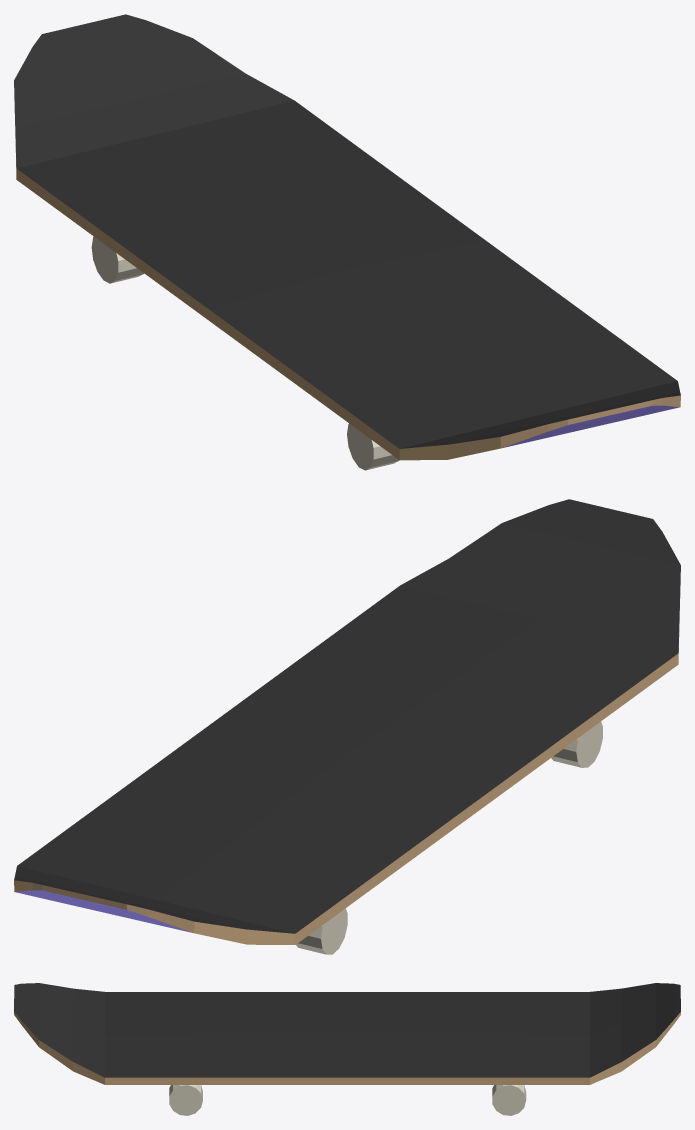
Rendered from Skateboard.fbx.
The picture shows the model from 3 angles, top to bottom: view 1: azimuth 30°, elevation 25°; view 2: azimuth 150°, elevation 25°; view 3: azimuth 270°, elevation 25°; orthographic projection. The views are drawn at different scales.
Visible parts, largest first — view 1: Skateboard; view 2: Skateboard; view 3: Skateboard.
Part boxes in pixels (x1,y1,x2,y2): Skateboard: [14, 14, 680, 470]; Skateboard: [14, 499, 680, 954]; Skateboard: [14, 983, 680, 1115].
Bounding box in the file's own units: 52.89 × 23.72 × 173.
